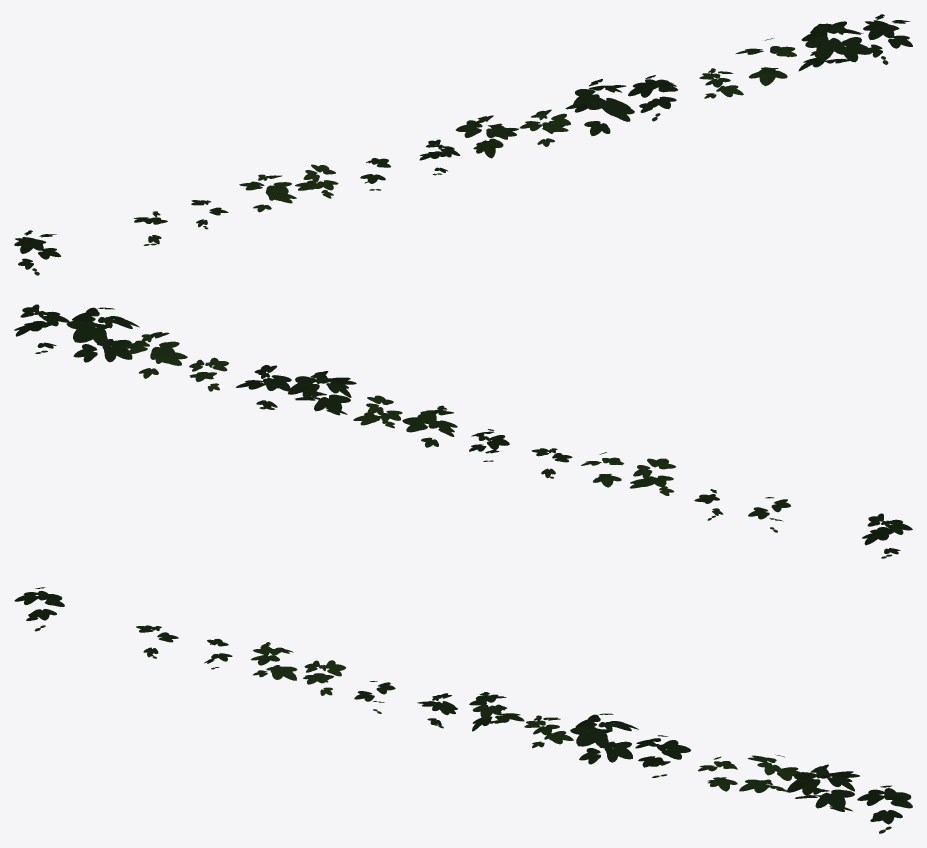
The model's file is ROW_03_SEG4_foliage.dae.
The picture shows the model from 3 angles, top to bottom: view 1: azimuth 30°, elevation 25°; view 2: azimuth 150°, elevation 25°; view 3: azimuth 330°, elevation 25°; orthographic projection.
Visible parts, largest first — view 1: ROW_03_SEG4_foliage; view 2: ROW_03_SEG4_foliage; view 3: ROW_03_SEG4_foliage.
Part boxes in pixels (x1=…): ROW_03_SEG4_foliage: x1=14, y1=14, x2=912, y2=275; ROW_03_SEG4_foliage: x1=14, y1=304, x2=912, y2=558; ROW_03_SEG4_foliage: x1=14, y1=587, x2=912, y2=833.
Size of the model in its own units: 4.83 by 0.3533 by 0.2945.
